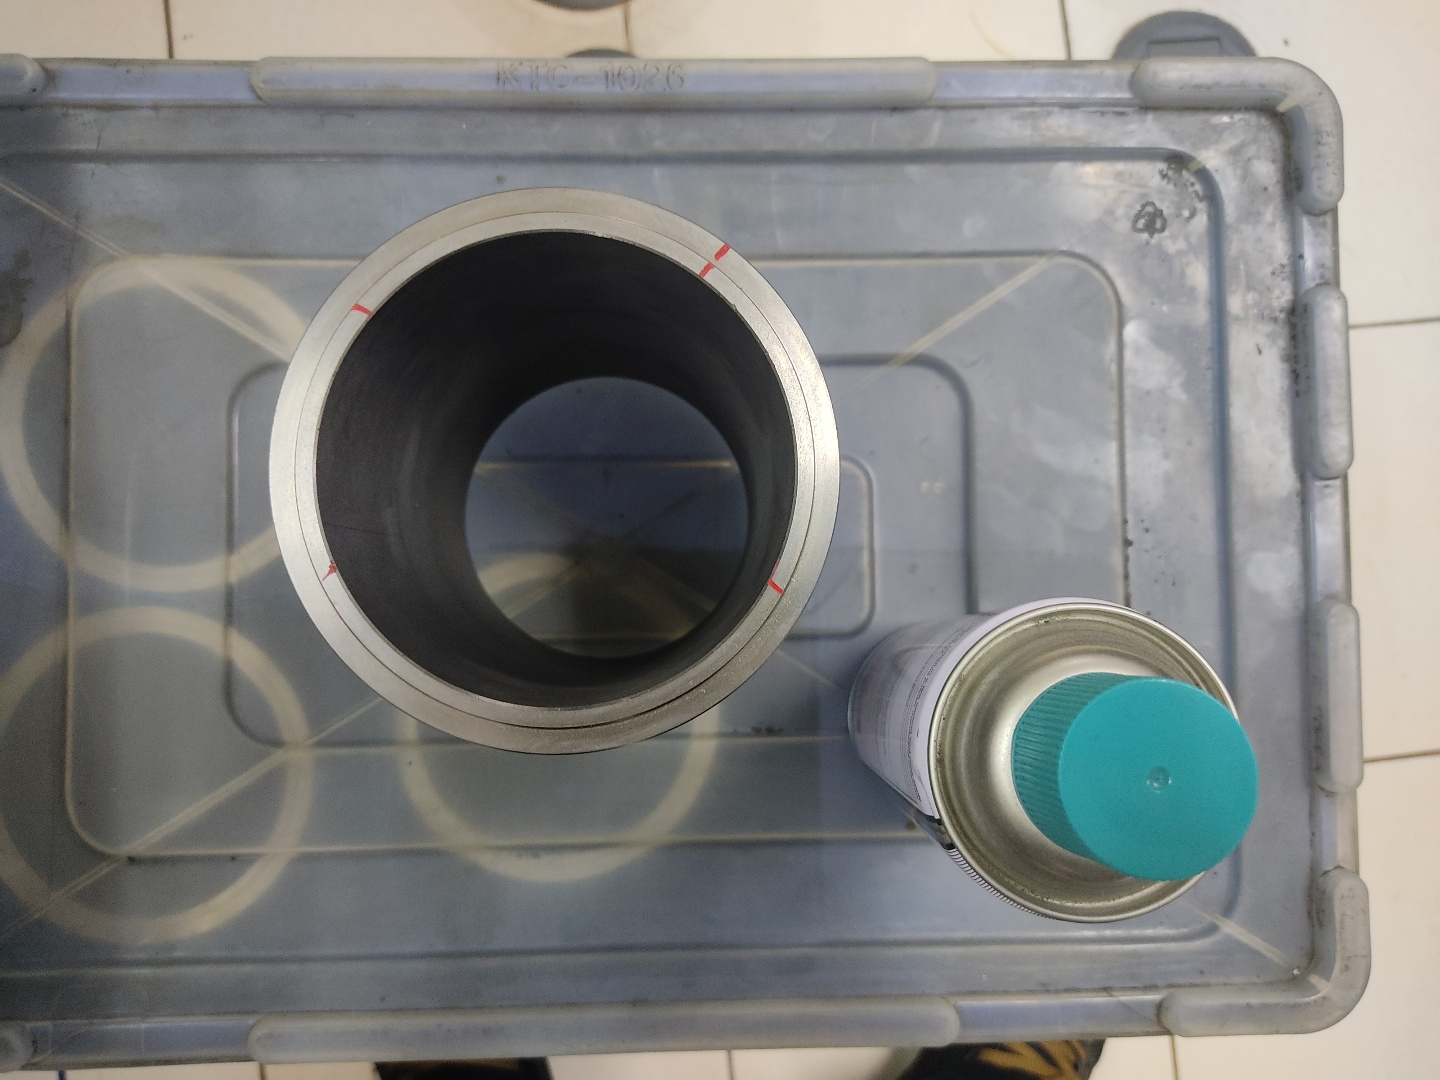cylinder: (260, 178, 846, 763)
